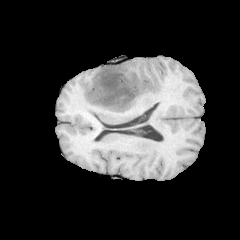glioma: (68, 60, 163, 125)
